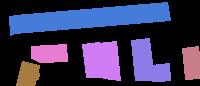parkingspot: (9, 2, 170, 35), (131, 38, 154, 80), (98, 41, 120, 80), (82, 42, 104, 77), (31, 44, 67, 62), (182, 46, 200, 79), (16, 61, 39, 86), (151, 63, 170, 81)
